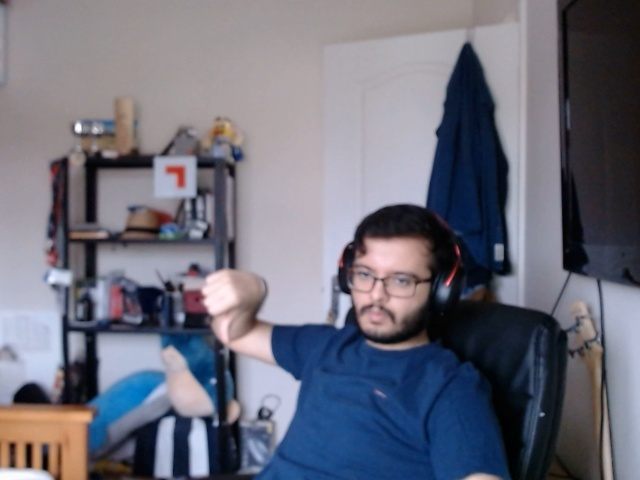Thumbs down: (194, 253, 285, 354)
